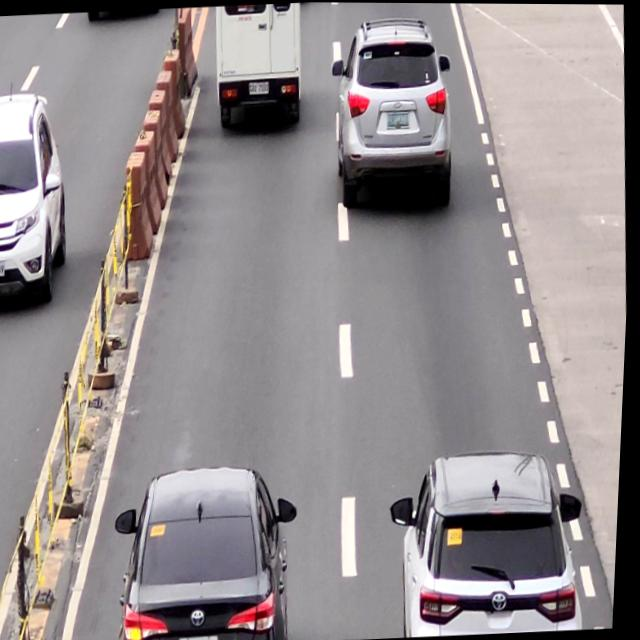Car: (388, 446, 597, 639), (115, 463, 310, 640), (325, 13, 460, 215), (211, 2, 308, 130)
License-Plate: (387, 110, 412, 129), (249, 78, 271, 95), (185, 632, 224, 640)
